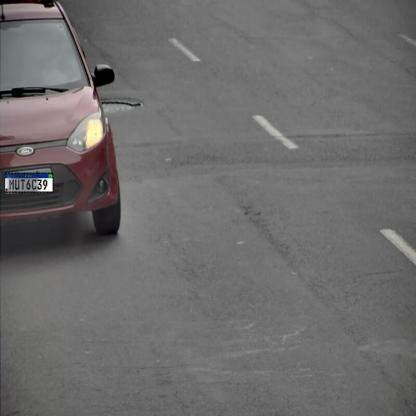PlacaM: (4, 172, 54, 192)
